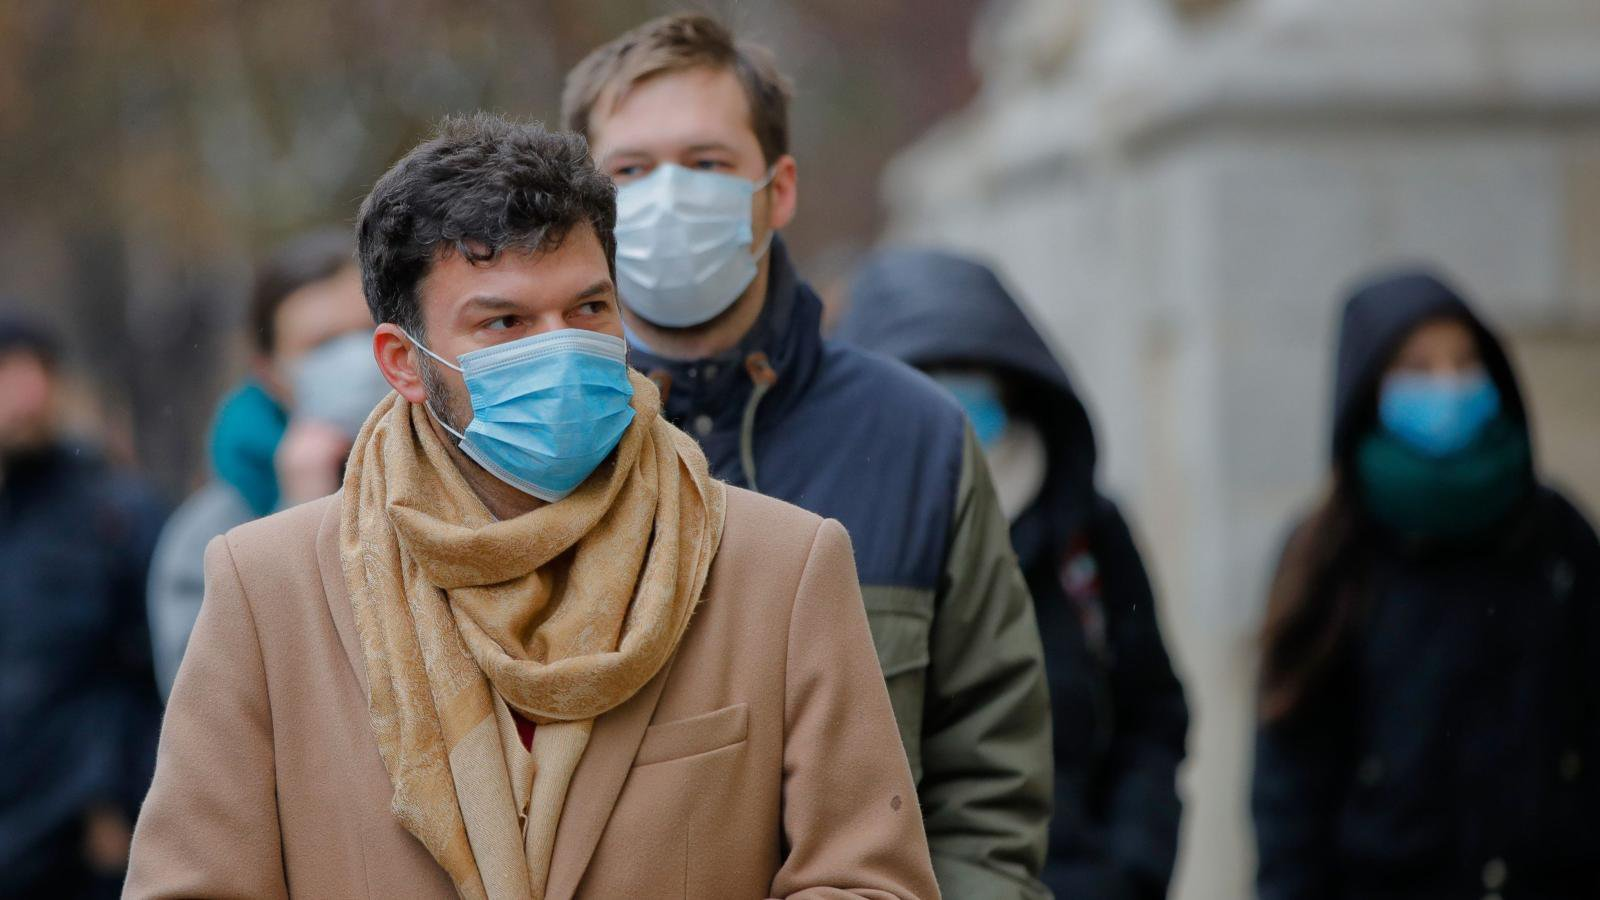mask: (334, 106, 641, 497), (566, 17, 826, 322), (1364, 318, 1521, 463)
